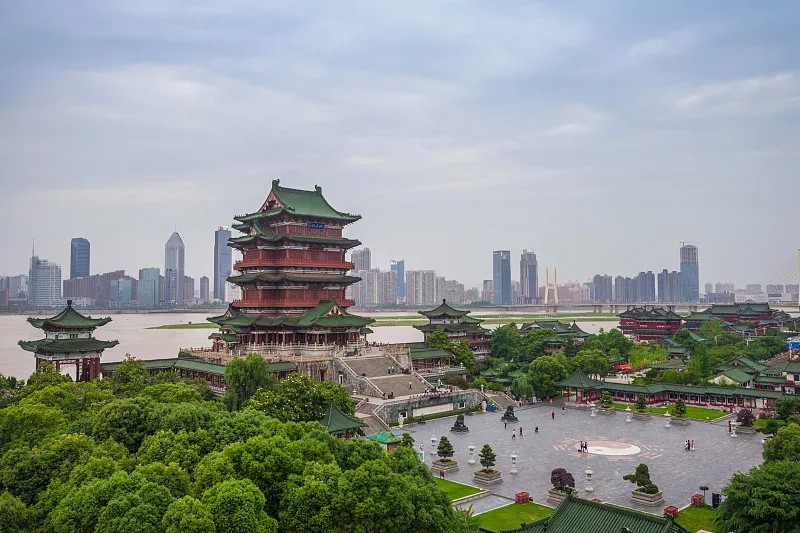Teng: (205, 178, 376, 348)
